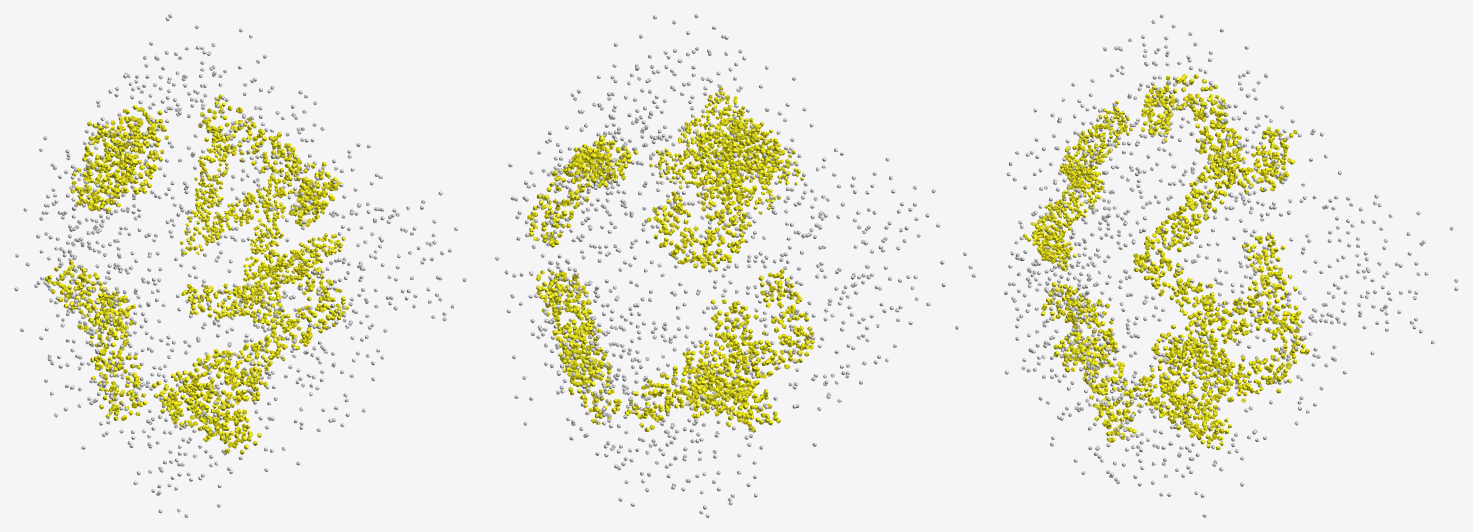
3 renders of one model, left to right at view 1: azimuth 30°, elevation 25°; view 2: azimuth 150°, elevation 25°; view 3: azimuth 270°, elevation 25°, orthographic. The views are drawn at different scales.
Parts seen in each view (by area): view 1: 6men; view 2: 6men; view 3: 6men.
Boxes of the visible parts, box(x1,y1,x2,y2) form: 6men: box(14, 14, 466, 517); 6men: box(495, 14, 975, 517); 6men: box(1004, 14, 1458, 517).
Bounding box in the file's own units: 14.15 × 15.18 × 12.77.
Materials: 1 (1 with a texture image).
